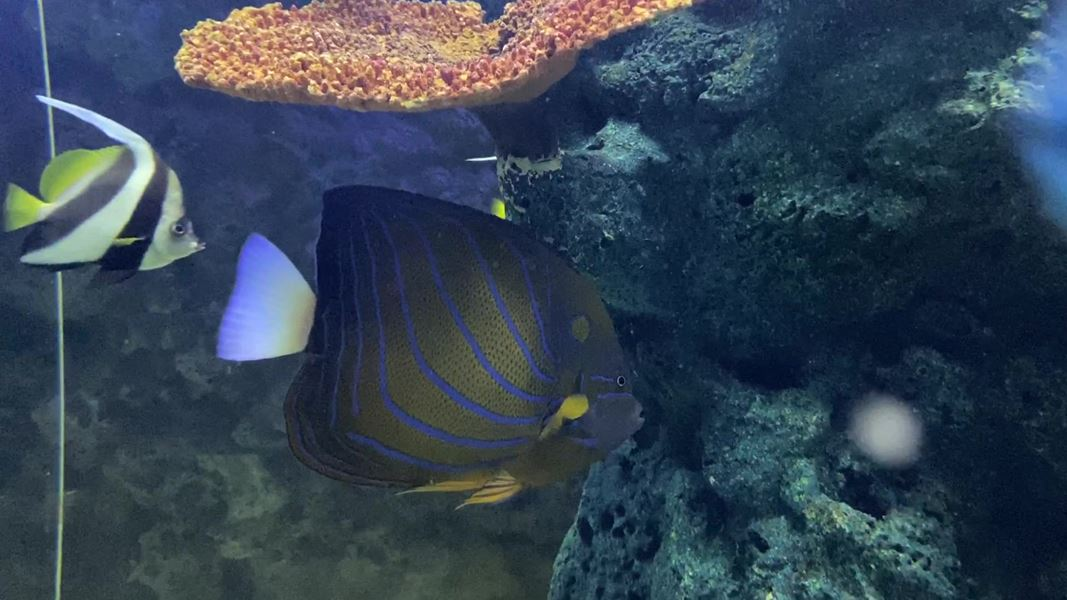Blue ring angelfish: (188, 163, 663, 546)
